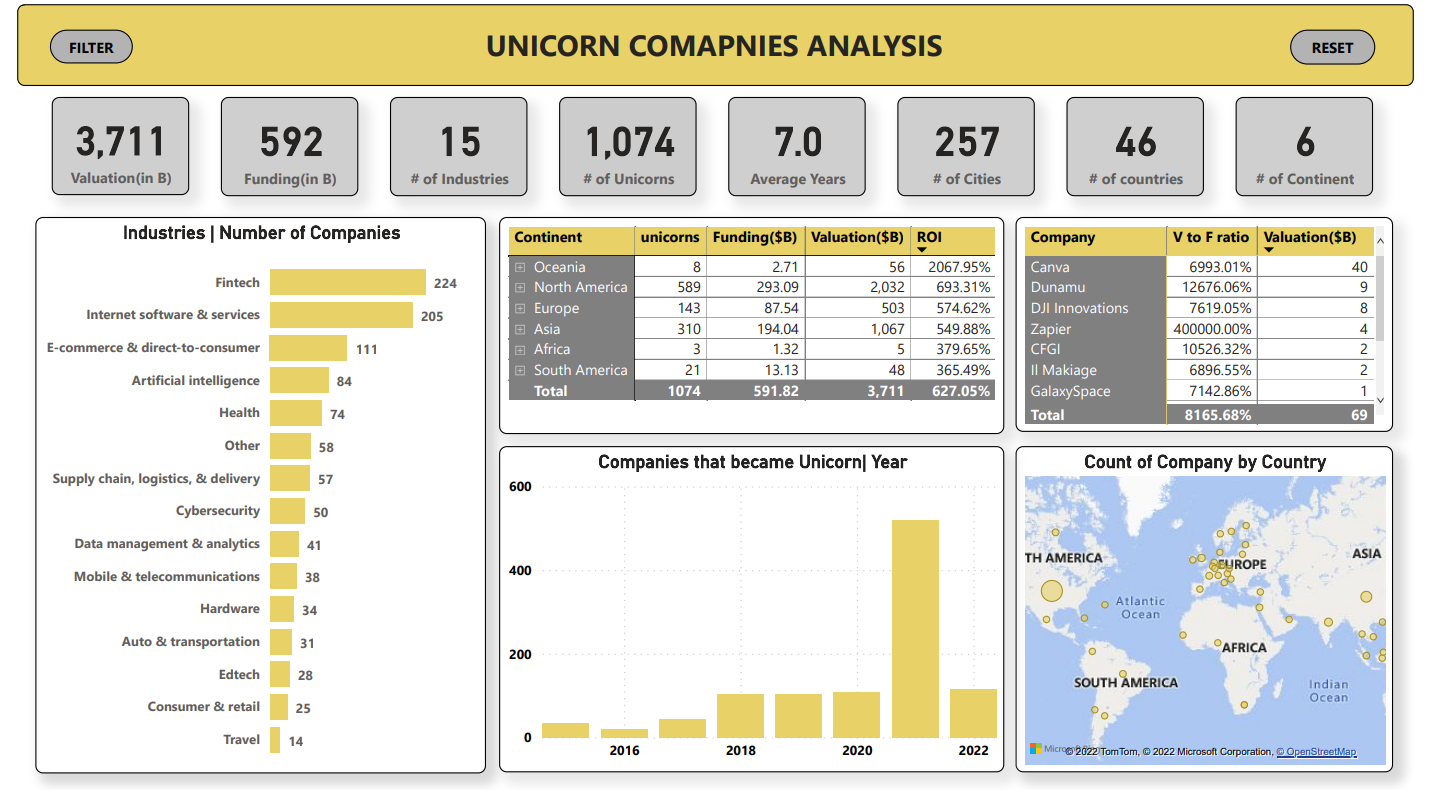

The dashboard page shown, as its layout file describes it:
{"tool":"powerbi","page":{"name":"Page 1","canvas":[1280,720],"ordinal":0},"visuals":[{"type":"shape","box":[0,0,1280,75],"z":0},{"type":"card","fields":{"Values":["Sum(Unicorn_Companies.Valuation(in B))"]},"box":[32.4,84.6,126.2,90],"z":0,"group":"g1"},{"type":"group","id":"g1","title":"Group 2","box":[32.4,84.6,1211.9,90.6],"z":1000},{"type":"card","fields":{"Values":["Sum(Unicorn_Companies.Funding(in B))"]},"box":[187.5,84.6,126.2,90.6],"z":1000,"group":"g1"},{"type":"card","fields":{"Values":["Count(Unicorn_Companies.Industry)"]},"box":[342.6,84.6,126.2,90.6],"z":2000,"group":"g1"},{"type":"barChart","title":"Industries | Number of Companies","fields":{"Y":["CountNonNull(Unicorn_Companies.Company)"],"Category":["Unicorn_Companies.Industry"]},"box":[17.4,195,413.2,509.7],"z":2000},{"type":"card","fields":{"Values":["Avg(Unicorn_Companies.No. of Years)"]},"box":[652.8,84.6,126.2,90.6],"z":3000,"group":"g1"},{"type":"pivotTable","fields":{"Rows":["Unicorn_Companies.Continent","Unicorn_Companies.Country","Unicorn_Companies.City","Unicorn_Companies.Company"],"Values":["CountNonNull(Unicorn_Companies.Company)","Sum(Unicorn_Companies.Funding(in B))","Sum(Unicorn_Companies.Valuation(in B))","Unicorn_Companies.Valuation to Funding ratio"]},"box":[442.1,195,463.3,198.9],"z":3000},{"type":"card","fields":{"Values":["Count(Unicorn_Companies.City)"]},"box":[807.9,84.6,126.2,90.6],"z":4000,"group":"g1"},{"type":"pivotTable","fields":{"Rows":["Unicorn_Companies.Company"],"Values":["Unicorn_Companies.Valuation to Funding ratio","Sum(Unicorn_Companies.Valuation(in B))"]},"box":[915.8,195.8,346.2,197.4],"z":4000},{"type":"card","fields":{"Values":["Count(Unicorn_Companies.Country)"]},"box":[963,84.6,126.2,90.6],"z":5000,"group":"g1"},{"type":"map","title":"Count of Company by Country","fields":{"Category":["Unicorn_Companies.Continent","Unicorn_Companies.Country"],"Size":["CountNonNull(Unicorn_Companies.Company)"]},"box":[915.8,404.5,346.2,299.3],"z":5000},{"type":"card","fields":{"Values":["Count(Unicorn_Companies.Continent)"]},"box":[1118.1,84.6,126.2,90.6],"z":6000,"group":"g1"},{"type":"columnChart","title":"Companies that became Unicorn| Year","fields":{"Category":["Unicorn_Companies.Unicorn Year"],"Y":["CountNonNull(Unicorn_Companies.Company)"]},"box":[442.1,405.4,463.3,299.2],"z":6000},{"type":"textbox","box":[407.7,12.9,461.1,61.5],"z":7000},{"type":"card","fields":{"Values":["CountNonNull(Unicorn_Companies.Company)"]},"box":[497.7,84.6,126.2,90.6],"z":7000,"group":"g1"},{"type":"shape","box":[30,22.5,76.2,31.2],"z":9000},{"type":"shape","box":[1166.7,23.3,78.3,31.7],"z":10000}]}

Visuals, with their boxes in screenshot pixels (x1, y1, x2, y2), scaled from the page's 1280x720 canvas onto the 1436x804 screenshot:
shape: 0:0:1435:84
card - Sum(Unicorn_Companies.Valuation(in B)): 36:94:178:195
"Group 2" group: 36:94:1396:196
card - Sum(Unicorn_Companies.Funding(in B)): 210:94:352:196
card - Count(Unicorn_Companies.Industry): 384:94:526:196
"Industries | Number of Companies" barChart: 20:218:483:787
card - Avg(Unicorn_Companies.No. of Years): 732:94:874:196
pivotTable - Unicorn_Companies.Continent x Unicorn_Companies.Country: 496:218:1016:440
card - Count(Unicorn_Companies.City): 906:94:1048:196
pivotTable - Unicorn_Companies.Company x Unicorn_Companies.Valuation to Funding ratio: 1027:219:1416:439
card - Count(Unicorn_Companies.Country): 1080:94:1222:196
"Count of Company by Country" map: 1027:452:1416:786
card - Count(Unicorn_Companies.Continent): 1254:94:1396:196
"Companies that became Unicorn| Year" columnChart: 496:453:1016:787
textbox: 457:14:975:83
card - CountNonNull(Unicorn_Companies.Company): 558:94:700:196
shape: 34:25:119:60
shape: 1309:26:1397:61
